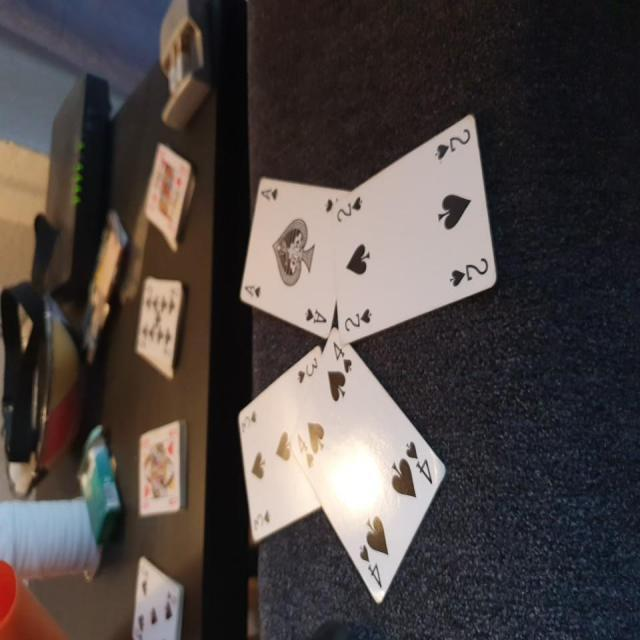2 of spades: (320, 114, 503, 345)
3 of spades: (230, 346, 342, 560)
4 of spades: (280, 329, 456, 619)
ace of spades: (229, 168, 353, 348)
